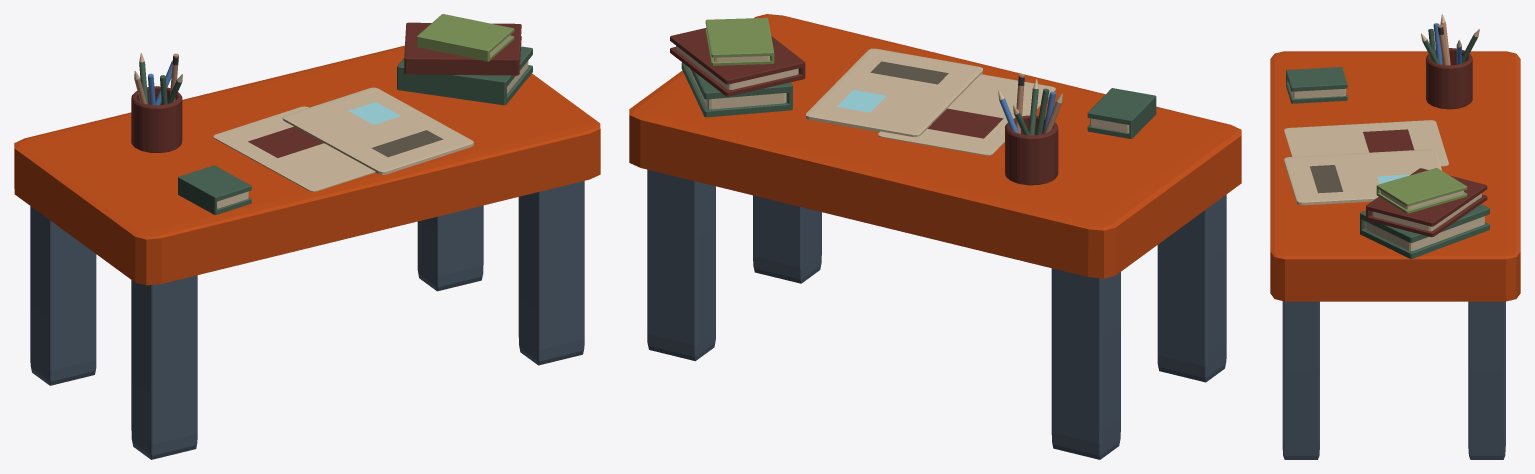
The model's file is table_singlebedroom.fbx.
3 renders of one model, left to right at view 1: azimuth 30°, elevation 25°; view 2: azimuth 150°, elevation 25°; view 3: azimuth 270°, elevation 25°, orthographic. The views are drawn at different scales.
Visible parts, largest first — view 1: table_singlebedroom, Cube.069, Cube.070, Cube.072, Cube.071, Cube.073, Cube.074, Cube.075; view 2: table_singlebedroom, Cube.069, Cube.070, Cube.072, Cube.071, Cube.073, Cube.074, Cube.075; view 3: table_singlebedroom, Cube.069, Cube.070, Cube.072, Cube.071, Cube.073, Cube.074, Cube.076, Cube.049.
Boxes of the visible parts, box(x1,y1,x2,y2) form: table_singlebedroom: box(14, 45, 600, 285); Cube.069: box(30, 181, 584, 459); Cube.070: box(134, 35, 528, 208); Cube.072: box(131, 22, 521, 157); Cube.071: box(139, 46, 532, 214); Cube.073: box(417, 14, 514, 61); Cube.074: box(371, 130, 443, 157); Cube.075: box(348, 102, 400, 124); table_singlebedroom: box(629, 14, 1241, 278); Cube.069: box(647, 169, 1226, 459); Cube.070: box(676, 46, 1129, 155); Cube.072: box(670, 28, 1058, 185); Cube.071: box(681, 62, 1156, 138); Cube.073: box(705, 18, 774, 65); Cube.074: box(870, 61, 948, 84); Cube.075: box(837, 90, 886, 112); table_singlebedroom: box(1270, 51, 1520, 301); Cube.069: box(1282, 301, 1505, 459); Cube.070: box(1284, 14, 1484, 251); Cube.072: box(1363, 48, 1487, 237); Cube.071: box(1286, 29, 1489, 258); Cube.073: box(1376, 168, 1467, 213); Cube.074: box(1310, 165, 1343, 193); Cube.076: box(1437, 22, 1450, 65); Cube.049: box(1433, 23, 1461, 64).
Bounding box in the file's own units: 152 × 98.5 × 76.97.
